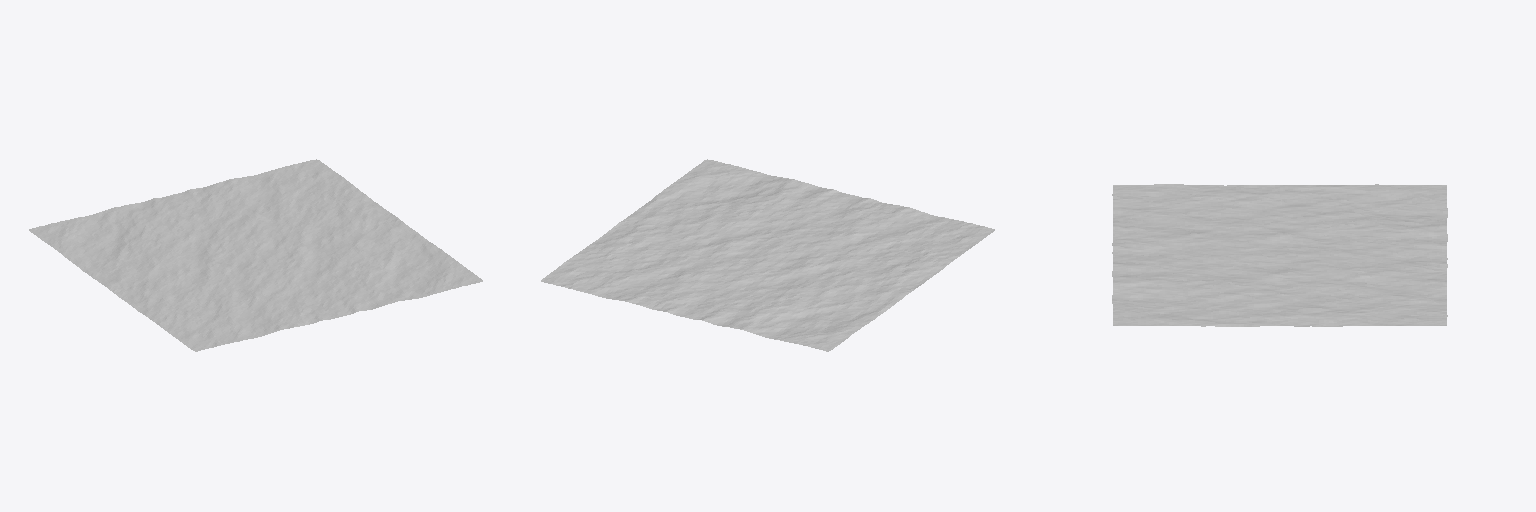
File: sea_000008.obj
The picture shows the model from 3 angles: view 1: azimuth 30°, elevation 25°; view 2: azimuth 150°, elevation 25°; view 3: azimuth 270°, elevation 25°; orthographic projection.
Visible parts, largest first — view 1: Plane; view 2: Plane; view 3: Plane.
Part boxes in pixels (x1,y1,x2,y2): Plane: (29,159,482,351); Plane: (541,159,994,351); Plane: (1112,184,1447,326).
Size of the model in its own units: 201 by 2.03 by 200.